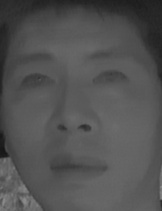eye: (89, 68, 130, 92), (18, 71, 56, 94)
mouth: (43, 146, 108, 186)
